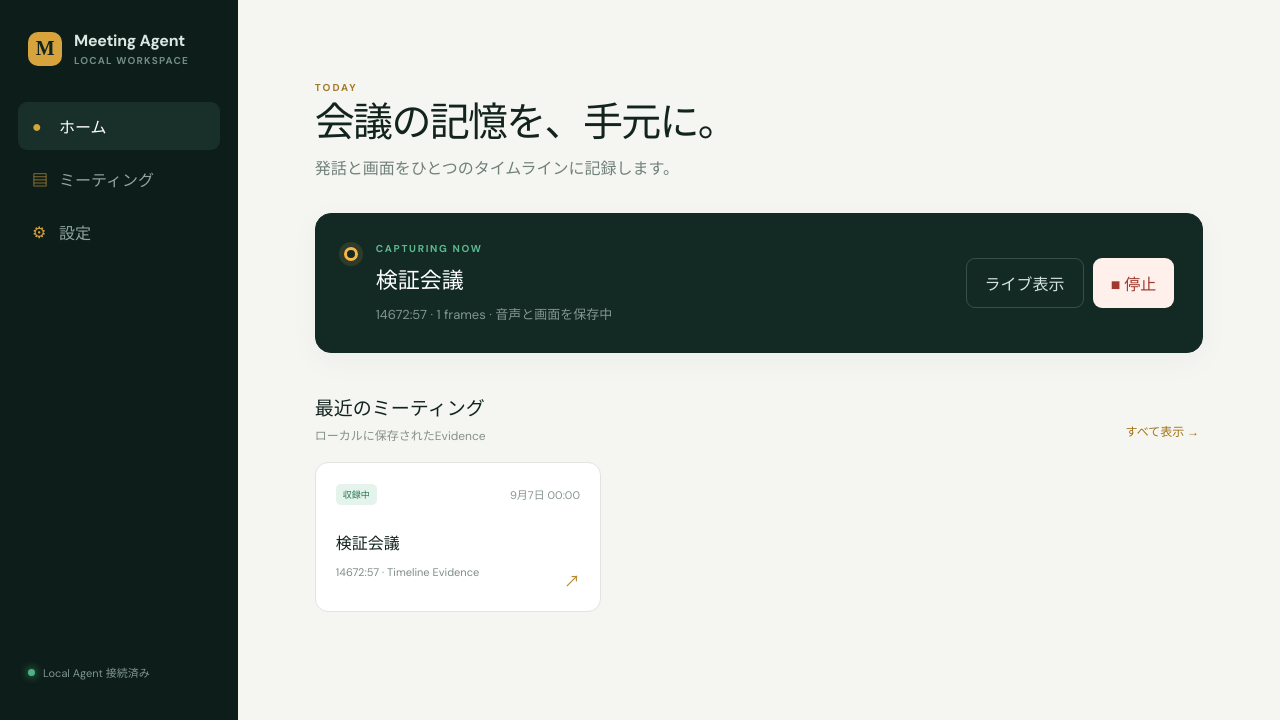
Test: does not offer manual recovery while recording
The width and height of the screenshot is (1280, 720).
Step 1. Click the button "ライブ表示" → (1025, 282), box [966, 258, 1084, 308]
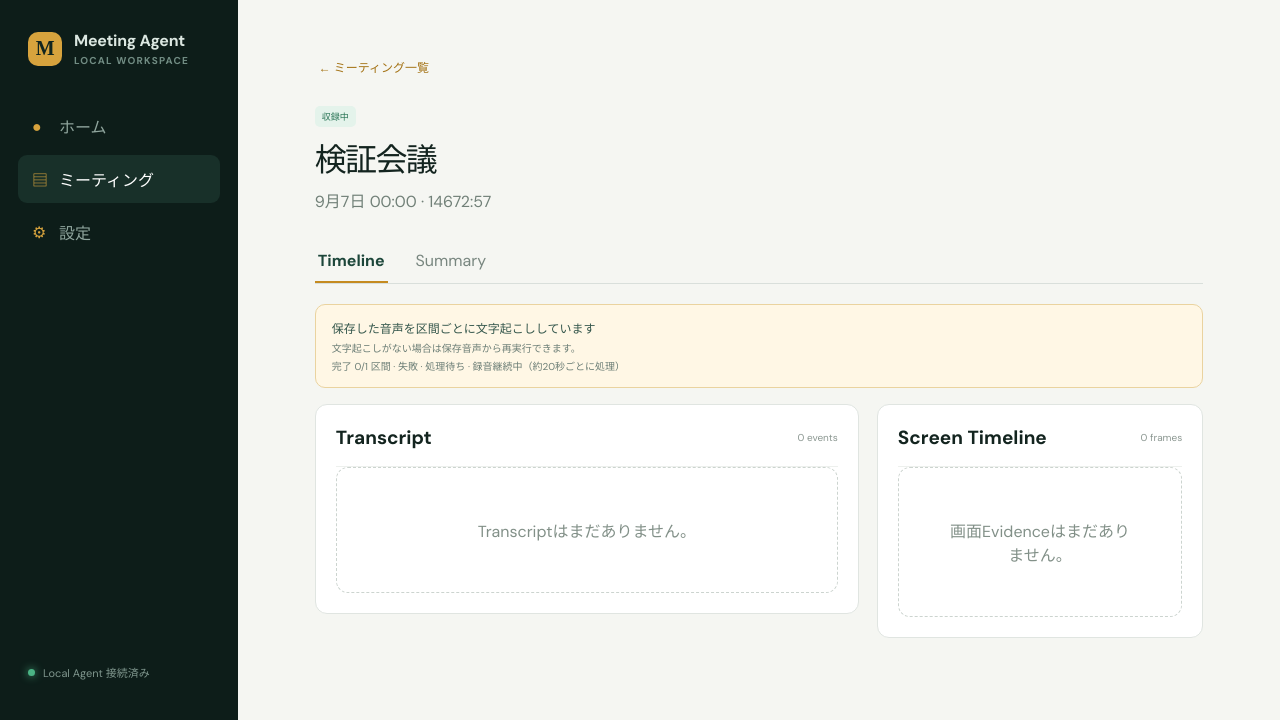
Now the text "完了 0/1 区間 · 失敗 · 処理待ち · 録音継続中（約20秒ごとに処理）" is shown, box [332, 358, 625, 373]
